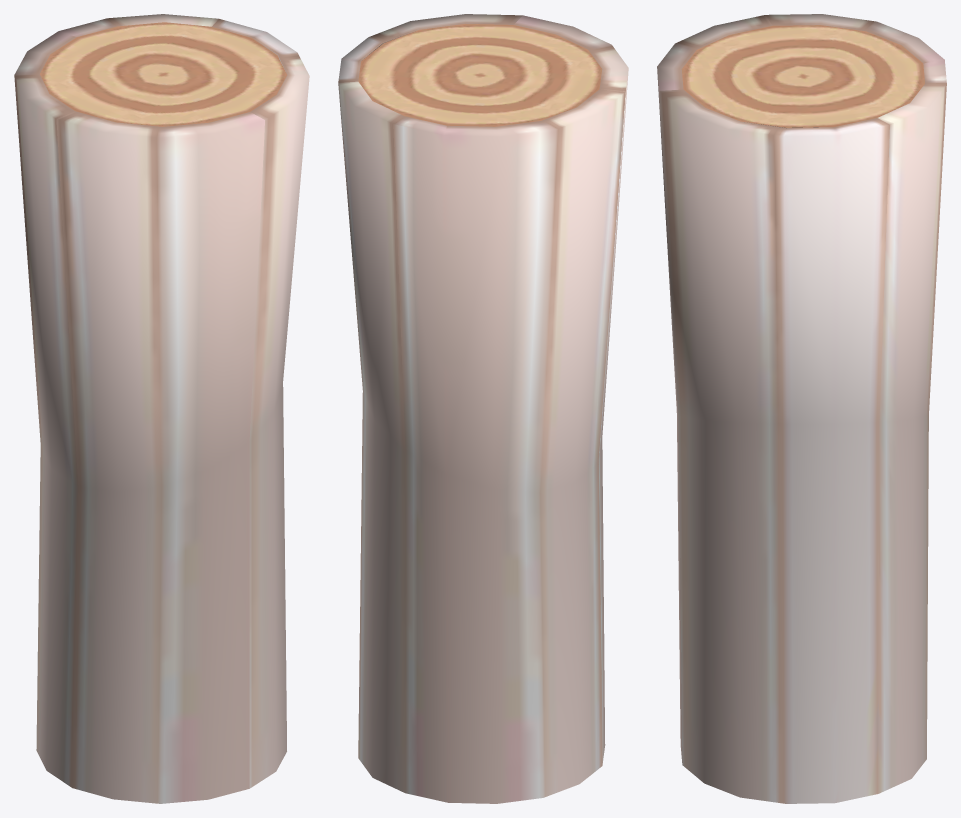
The model's file is PierBeam3.fbx.
The picture shows the model from 3 angles, left to right: view 1: azimuth 30°, elevation 25°; view 2: azimuth 150°, elevation 25°; view 3: azimuth 270°, elevation 25°; orthographic projection.
Parts seen in each view (by area): view 1: PierBeam; view 2: PierBeam; view 3: PierBeam.
Boxes of the visible parts, x1,y1,x2,y2 form: PierBeam: (14,14,309,803); PierBeam: (338,14,628,803); PierBeam: (657,14,946,803).
Bounding box in the file's own units: 0.598 × 1.54 × 0.598.
